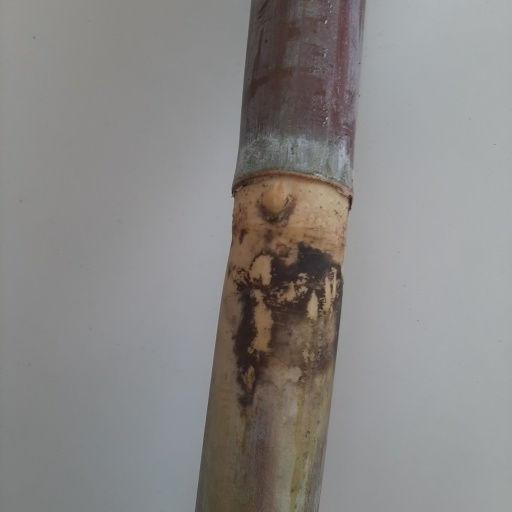Bud: (260, 184, 292, 224)
